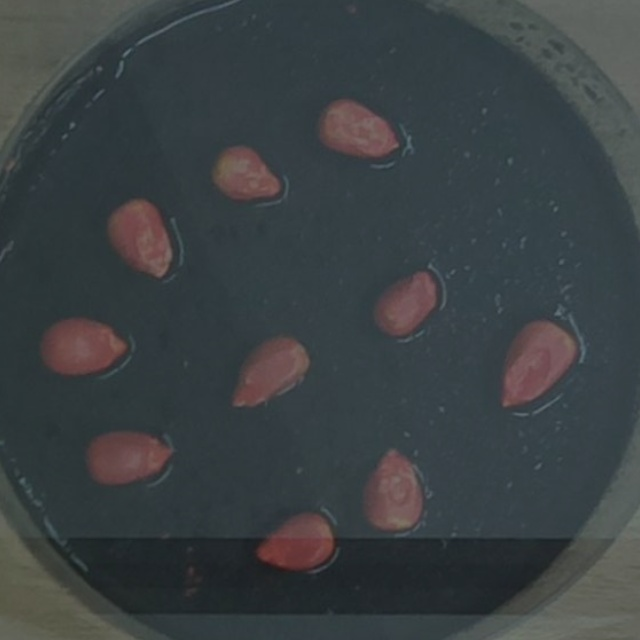Zea mays: (490, 310, 585, 417), (95, 188, 184, 290), (220, 326, 318, 416), (354, 436, 432, 541), (309, 87, 409, 168), (32, 307, 137, 383), (246, 502, 344, 582), (78, 420, 180, 493), (365, 261, 448, 342), (205, 134, 293, 205)
